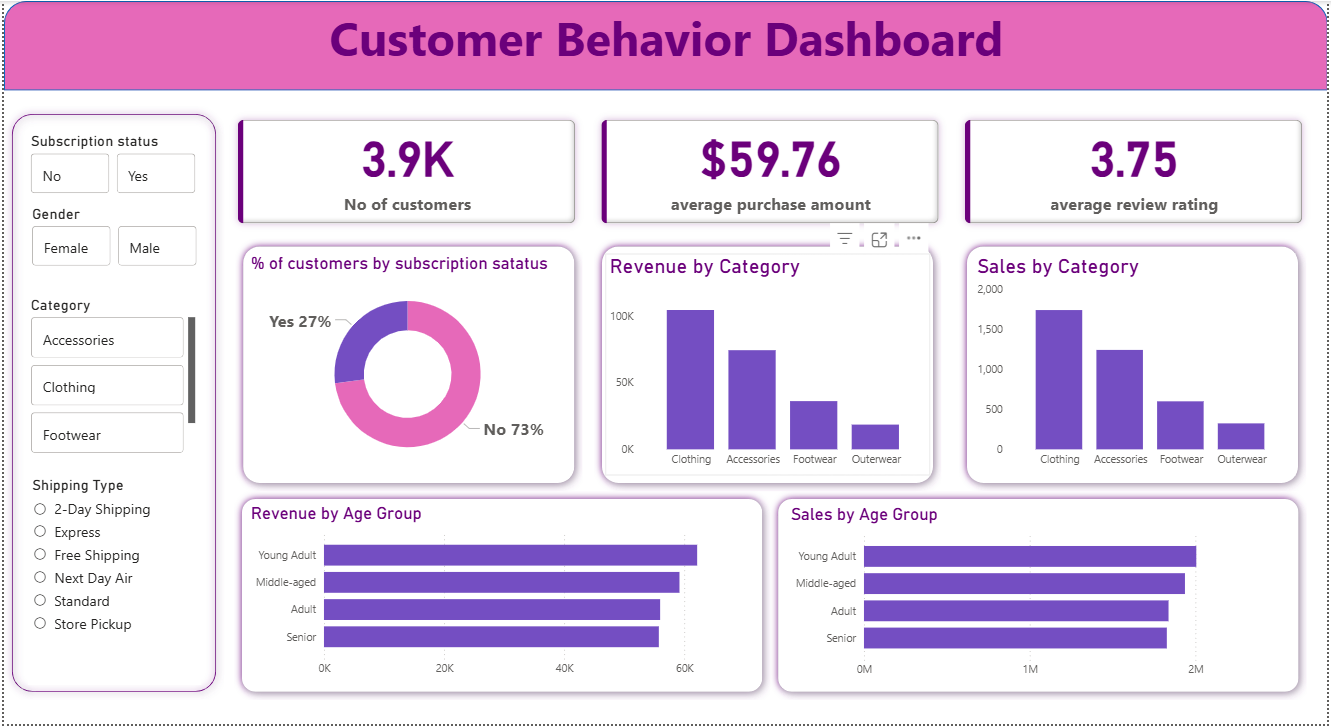

This screenshot's page, from the dashboard's own definition file:
{"tool":"powerbi","page":{"name":"Page 1","canvas":[1500,820],"ordinal":0},"visuals":[{"type":"cardVisual","fields":{"Data":["public customer.No of customers","public customer.average purchase amount","public customer.average review rating"]},"box":[249.3,119,1238.2,149.6],"z":0},{"type":"shape","box":[0,0,1500.3,101.3],"z":1},{"type":"textbox","box":[14.2,0,1473.4,102],"z":2},{"type":"shape","box":[262.1,268.5,393.3,286.2],"z":3},{"type":"donutChart","title":"% of customers by subscription satatus","fields":{"Category":["public customer.subscription_status"],"Y":["CountNonNull(public customer.customer_id)"]},"box":[274.8,286.2,365.5,252.2],"z":4},{"type":"shape","box":[668,268.5,393.3,286.2],"z":5},{"type":"shape","box":[1082.9,268.5,393.3,286.2],"z":6},{"type":"clusteredColumnChart","title":"Revenue by Category","fields":{"Category":["public customer.category"],"Y":["Sum(public customer.purchase_amount)"]},"box":[681.4,286.2,368.4,252.2],"z":7},{"type":"clusteredColumnChart","title":"Sales by Category","fields":{"Category":["public customer.category"],"Y":["CountNonNull(public customer.customer_id)"]},"box":[1098,286.2,365.5,252.2],"z":8},{"type":"shape","box":[0,119,249.3,672.9],"z":9},{"type":"advancedSlicerVisual","title":"Subscription status","fields":{"Values":["public customer.subscription_status"]},"box":[25.5,148.8,196.9,75.1],"z":10},{"type":"advancedSlicerVisual","title":"Category","fields":{"Values":["public customer.category"]},"box":[25.5,334.3,196.9,185.6],"z":11},{"type":"advancedSlicerVisual","title":"Gender","fields":{"Values":["public customer.gender"]},"box":[26.9,230.9,196.9,75.1],"z":12},{"type":"listSlicer","title":"Shipping Type","fields":{"Values":["public customer.shipping_type"]},"box":[26.9,538.4,196.9,236.6],"z":13},{"type":"shape","box":[260.7,555.4,607.8,236.6],"z":14},{"type":"clusteredBarChart","title":"Revenue by Age Group","fields":{"Y":["Sum(public customer.purchase_amount)"],"Category":["public customer.age_group"]},"box":[274.8,569.5,579.4,205.4],"z":15},{"type":"shape","box":[868.5,555.4,607.8,236.6],"z":16},{"type":"clusteredBarChart","title":"Sales by Age Group","fields":{"Category":["public customer.age_group"],"Y":["Sum(public customer.customer_id)"]},"box":[886.9,570.9,576.6,205.4],"z":17}]}

Visuals, with their boxes in screenshot pixels (x1, y1, x2, y2), scaled from the page's 1500x820 canvas onto the 1331x728 screenshot:
cardVisual - public customer.No of customers x public customer.average purchase amount: <region>221, 106, 1320, 238</region>
shape: <region>0, 0, 1330, 90</region>
textbox: <region>13, 0, 1320, 91</region>
shape: <region>233, 238, 582, 492</region>
"% of customers by subscription satatus" donutChart: <region>244, 254, 568, 478</region>
shape: <region>593, 238, 942, 492</region>
shape: <region>961, 238, 1310, 492</region>
"Revenue by Category" clusteredColumnChart: <region>605, 254, 932, 478</region>
"Sales by Category" clusteredColumnChart: <region>974, 254, 1299, 478</region>
shape: <region>0, 106, 221, 703</region>
"Subscription status" advancedSlicerVisual: <region>23, 132, 197, 199</region>
"Category" advancedSlicerVisual: <region>23, 297, 197, 462</region>
"Gender" advancedSlicerVisual: <region>24, 205, 199, 272</region>
"Shipping Type" listSlicer: <region>24, 478, 199, 688</region>
shape: <region>231, 493, 771, 703</region>
"Revenue by Age Group" clusteredBarChart: <region>244, 506, 758, 688</region>
shape: <region>771, 493, 1310, 703</region>
"Sales by Age Group" clusteredBarChart: <region>787, 507, 1299, 689</region>
